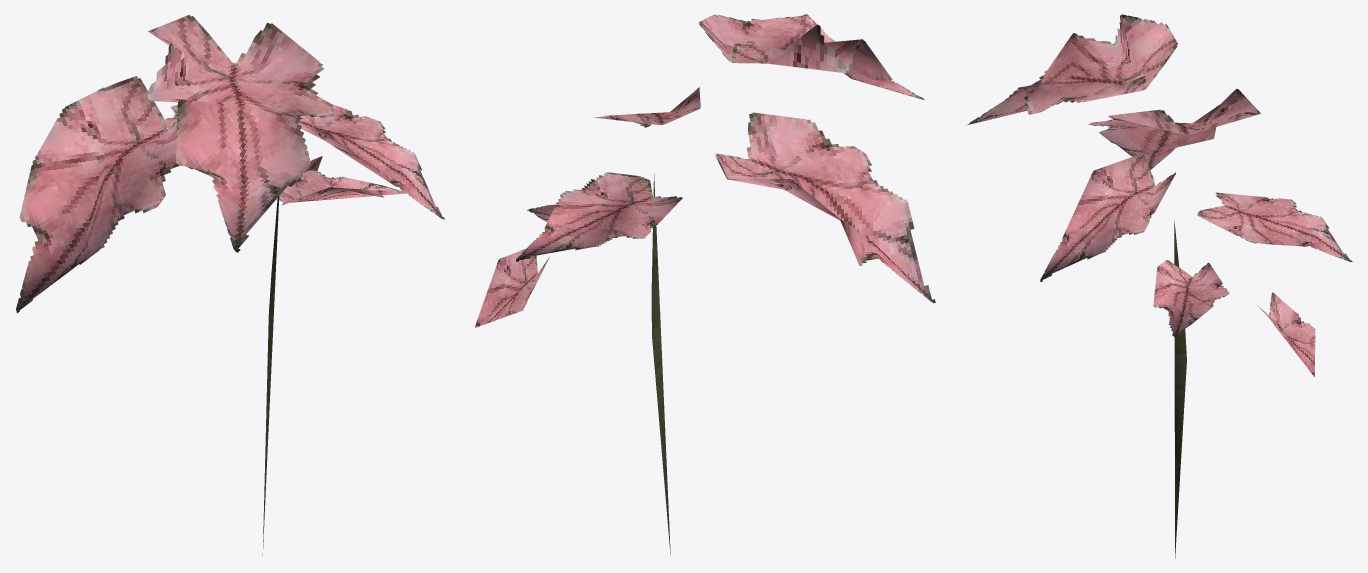
The model's file is pink-plant.lod2.glb.
3 renders of one model, left to right at view 1: azimuth 30°, elevation 25°; view 2: azimuth 150°, elevation 25°; view 3: azimuth 270°, elevation 25°, orthographic. The views are drawn at different scales.
Parts seen in each view (by area): view 1: StemA_low_T_PinkLeaf_0; view 2: StemA_low_T_PinkLeaf_0; view 3: StemA_low_T_PinkLeaf_0.
Boxes of the visible parts, box(x1,y1,x2,y2) form: StemA_low_T_PinkLeaf_0: box(16, 15, 444, 555); StemA_low_T_PinkLeaf_0: box(475, 14, 935, 554); StemA_low_T_PinkLeaf_0: box(966, 14, 1352, 558).
Bounding box in the file's own units: 0.9092 × 1.19 × 0.8491.
1 material, 1 textured.
